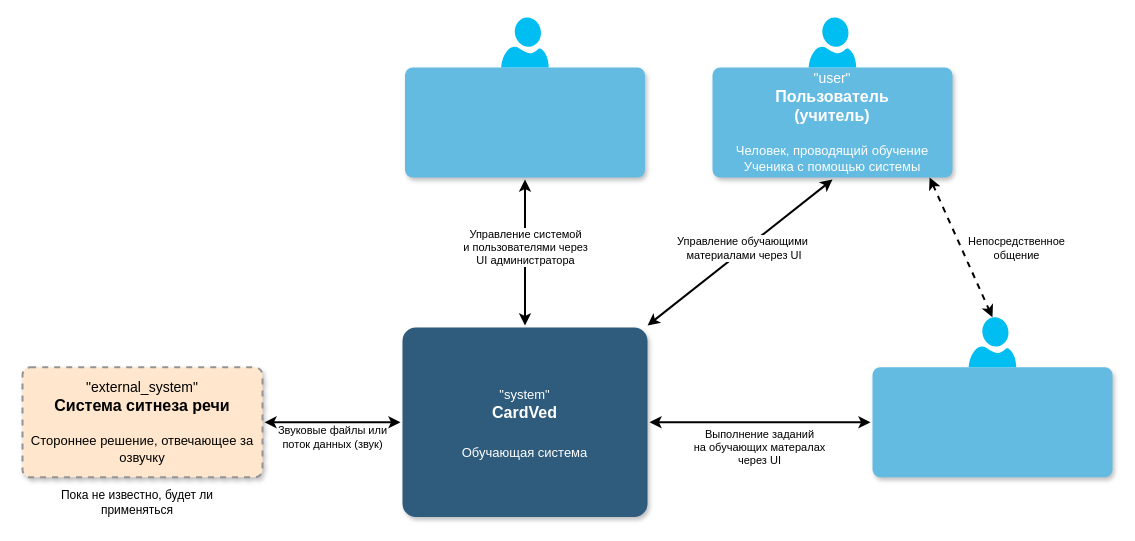
The diagram is 1135 pixels wide and 541 high, and some of its shapes have lost their labels. Here are the shapes that lost their labels. From the top down, the centre of each, then its label:
(x=525, y=123): "admin" Администратор Человек, управляющий системой и другими пользователями
(x=993, y=423): "user_student" Обучающийся (ученик) Человек, обучающийся с помощью системы
